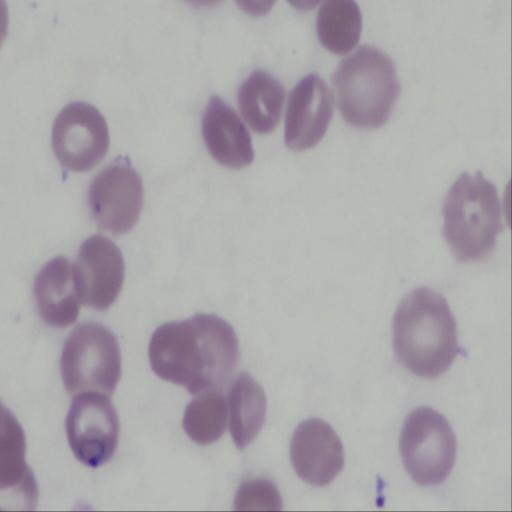Infected: (66, 394, 119, 470)
Uninfected: (393, 286, 459, 381), (443, 169, 506, 260), (336, 46, 400, 130), (400, 406, 458, 485), (61, 323, 121, 398), (51, 101, 110, 172), (200, 93, 255, 168), (282, 71, 331, 153), (289, 417, 345, 488), (88, 164, 143, 236), (30, 257, 84, 325), (76, 235, 125, 309), (238, 68, 285, 136), (316, 0, 362, 52)
